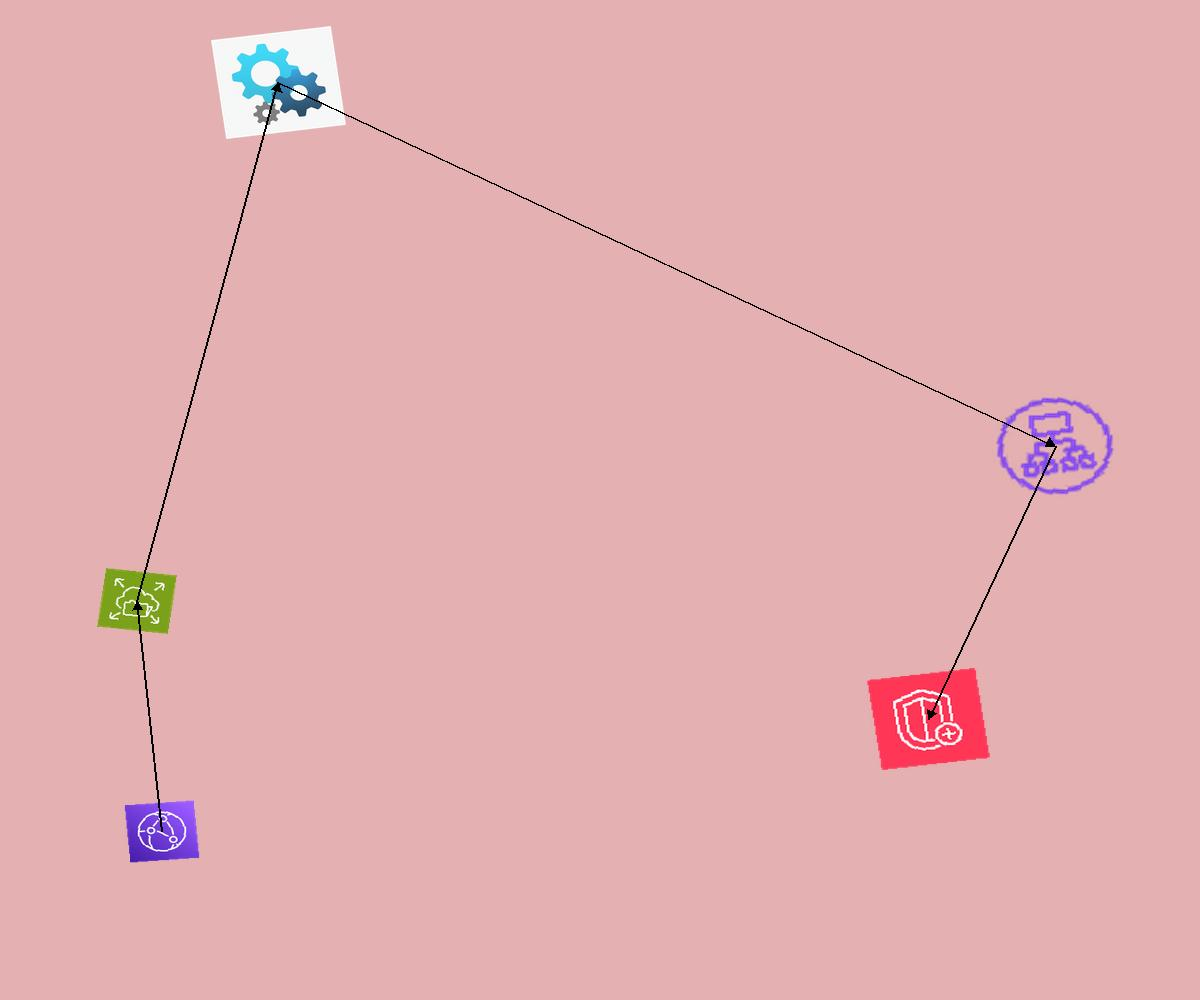AWS-CloudFront: (124, 800, 200, 863)
AWS-EFS: (97, 568, 177, 634)
AWS-Res_Elastic-Load-Balancing_Application-Load-Balancer: (982, 385, 1128, 507)
AWS-Shield: (866, 667, 991, 771)
Azure_api: (211, 26, 346, 139)
